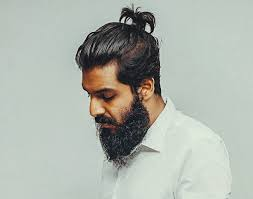b.y: (94, 115, 139, 159)
